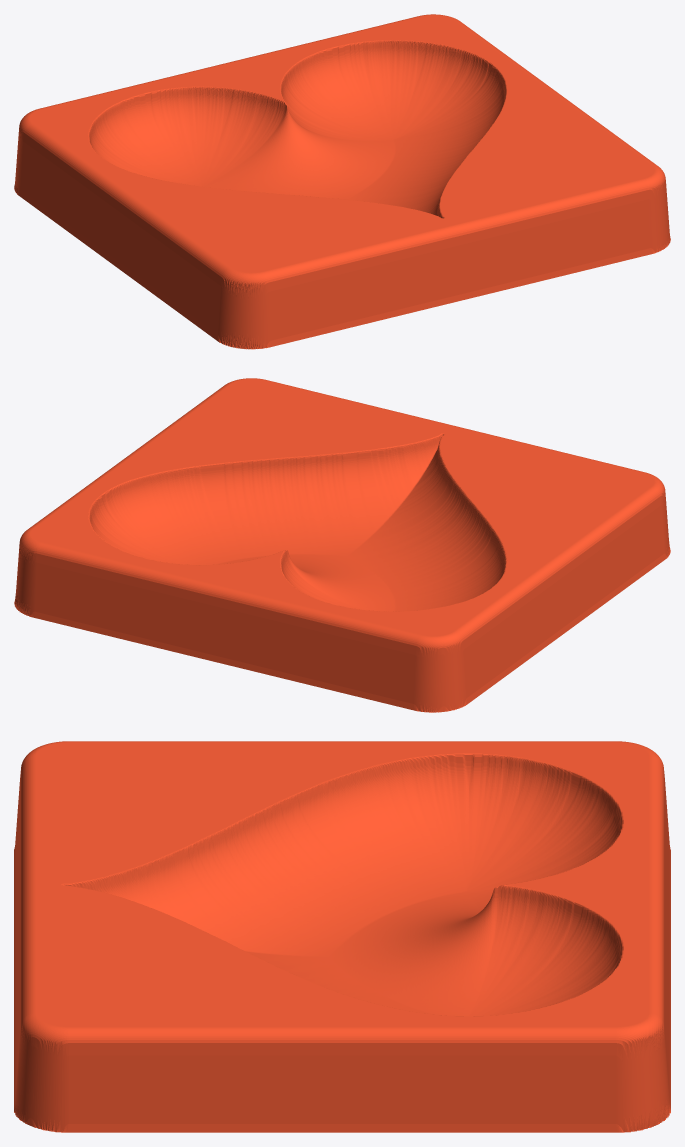
Rendered from mold.glb.
3 renders of one model, top to bottom at view 1: azimuth 30°, elevation 25°; view 2: azimuth 150°, elevation 25°; view 3: azimuth 270°, elevation 25°, orthographic. The views are drawn at different scales.
Visible parts, largest first — view 1: geometry_0; view 2: geometry_0; view 3: geometry_0.
Boxes of the visible parts, <box> form: geometry_0: <box>14,14,670,349</box>; geometry_0: <box>14,378,670,712</box>; geometry_0: <box>14,741,670,1132</box>.
Size of the model in its own units: 0.1178 by 0.0175 by 0.108.
